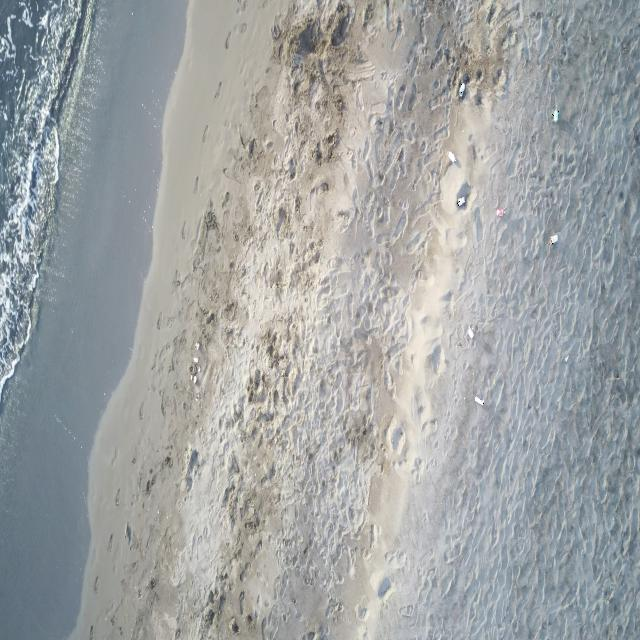Garbage: (457, 80, 464, 99), (457, 196, 466, 207), (473, 395, 484, 404), (552, 108, 559, 121), (547, 233, 556, 243), (448, 151, 455, 163), (496, 207, 504, 216), (193, 340, 200, 350), (467, 326, 472, 339), (192, 355, 198, 364), (191, 375, 196, 384)
